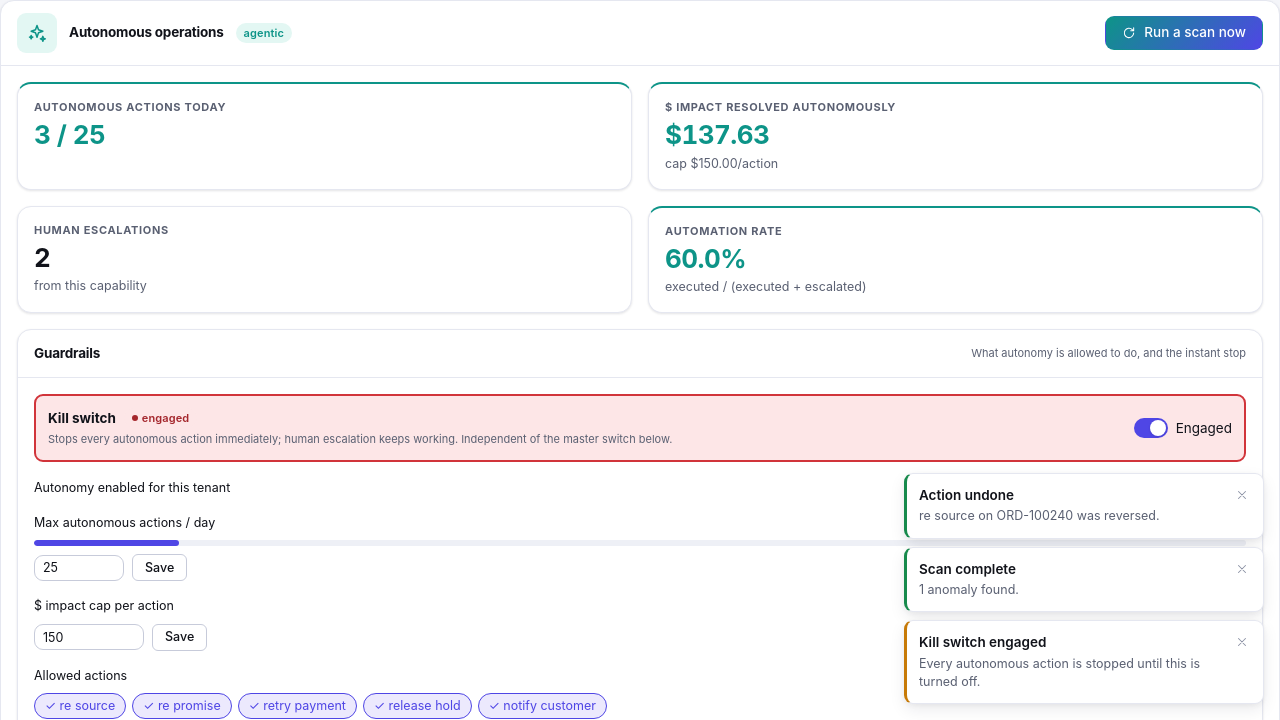
Test: Agentic Control Tower › toggling an allowed-action chip updates the guardrails
Check: the text "Autonomous operations" is shown, box [69,24,224,40]
Click the button "✓ notify customer": (542,706) [478,693,607,719]
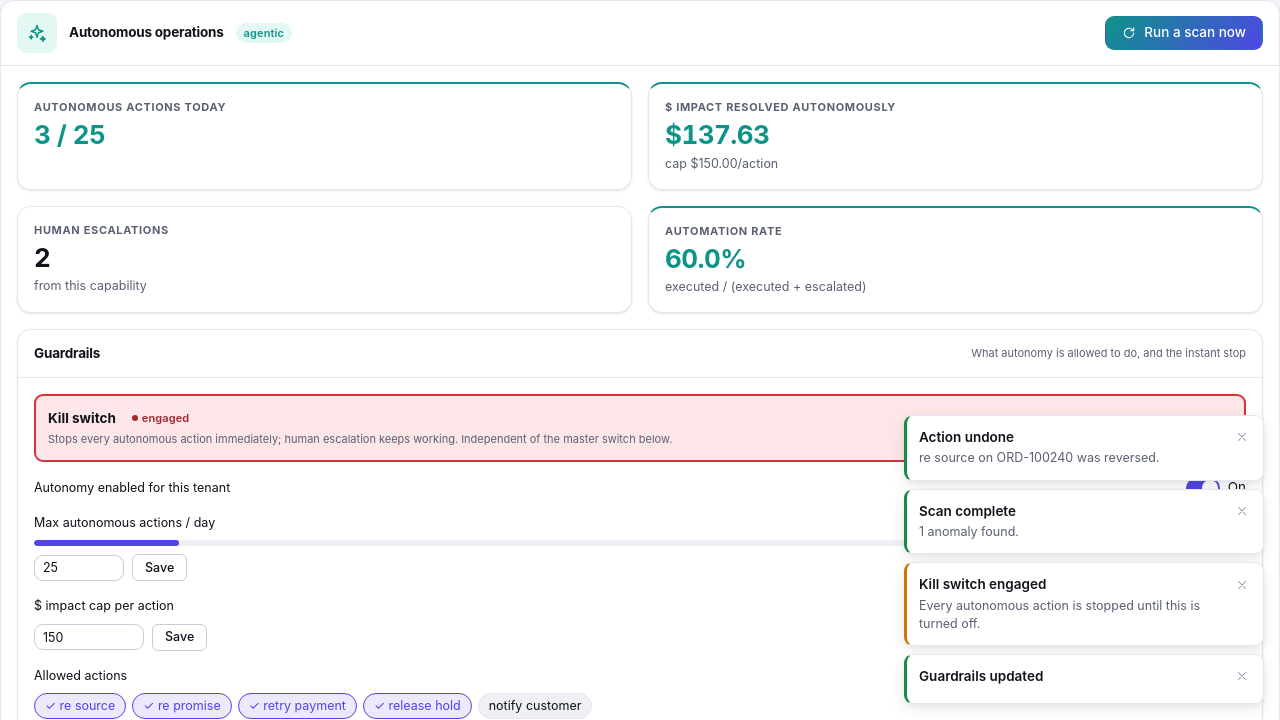
Check: the text "Guardrails updated" is shown, box [919,668,1043,684]
